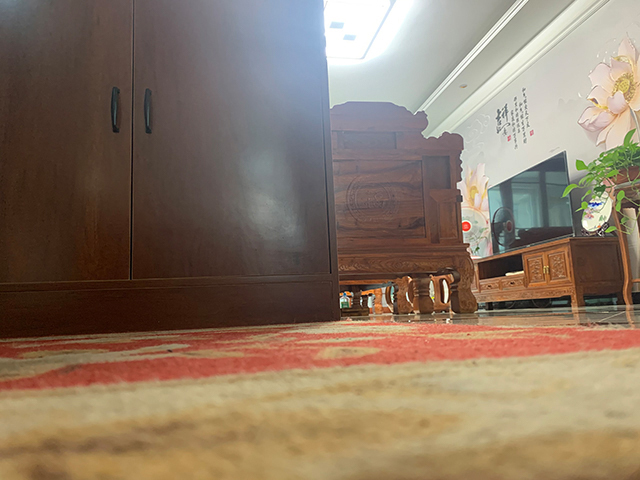cabinet: (1, 1, 340, 340), (471, 232, 629, 309)
carpet: (1, 318, 640, 480)
stool: (330, 101, 480, 316)
